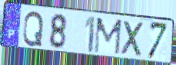1: (84, 15, 96, 55)
7: (146, 20, 169, 62)
8: (48, 13, 68, 50)
M: (93, 17, 124, 57)
Q: (21, 11, 45, 48)
X: (121, 19, 146, 58)
